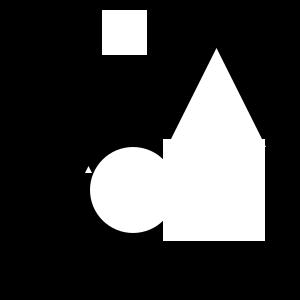circle: (163, 139, 265, 241), (102, 10, 147, 55)
rectangle: (90, 147, 176, 233)
triangle: (167, 48, 266, 147), (85, 166, 92, 173)
